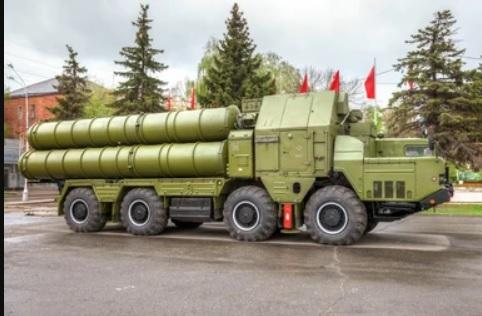MIL_SAM_TEL: (16, 90, 457, 250)
